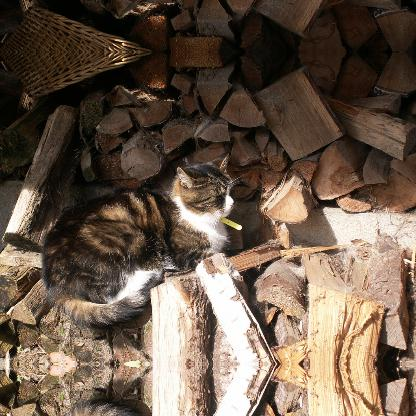Cat: (38, 152, 246, 327)
